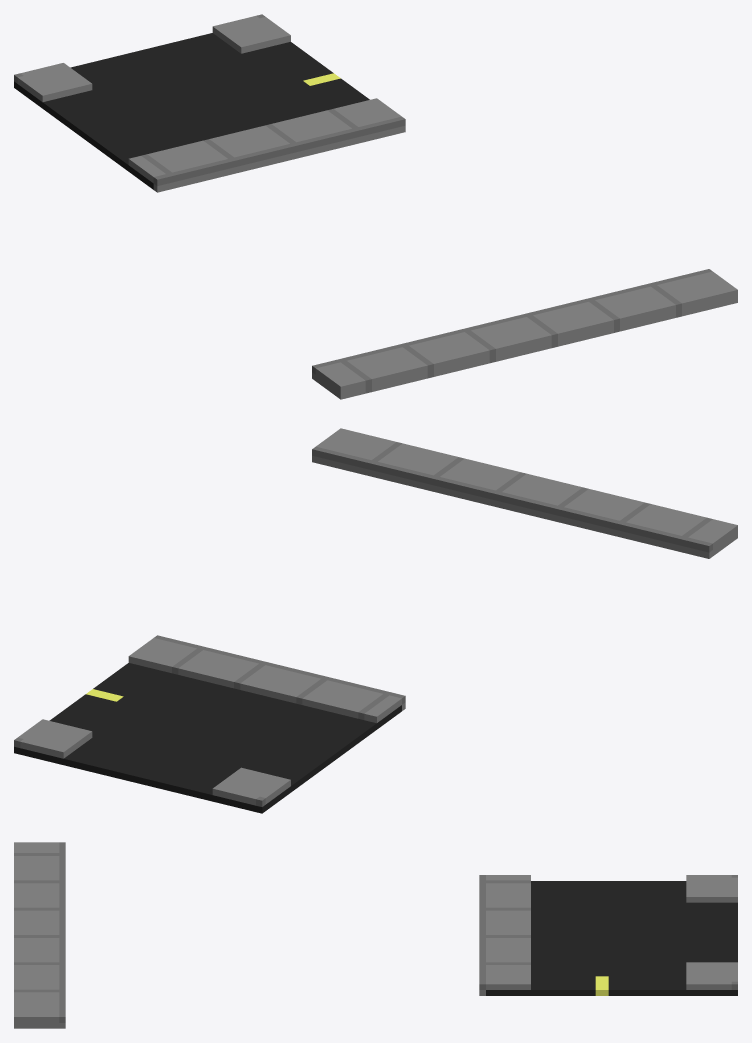
File: store_fill-5.obj
3 renders of one model, top to bottom at view 1: azimuth 30°, elevation 25°; view 2: azimuth 150°, elevation 25°; view 3: azimuth 270°, elevation 25°, orthographic. The views are drawn at different scales.
Parts seen in each view (by area): view 1: store_fill-5; view 2: store_fill-5; view 3: store_fill-5.
Boxes of the visible parts, x1,y1,x2,y2 form: store_fill-5: (14,14,737,399); store_fill-5: (14,428,737,813); store_fill-5: (14,842,737,1028).
Bounding box in the file's own units: 64 × 2 × 112.
1 material, 1 textured.
